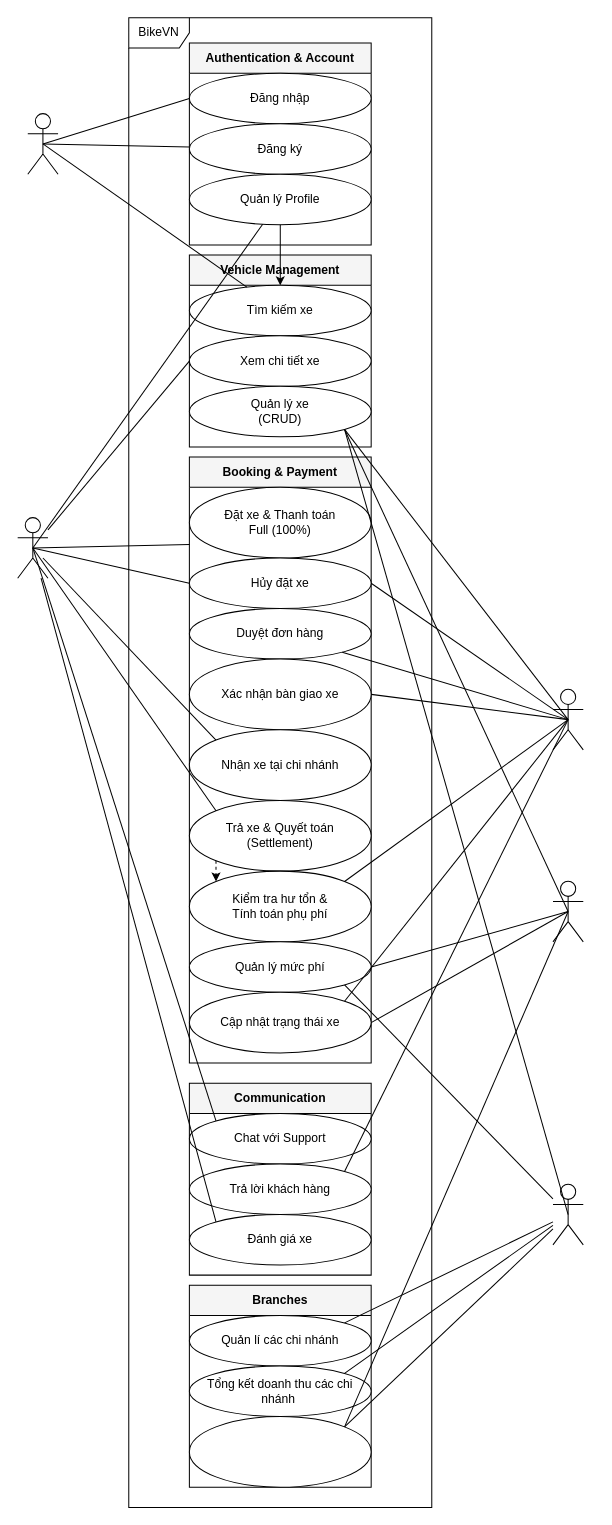
The diagram is 612 pixels wide and 1525 high, and some of its shapes have lost their labels. Here are the shapes that lost their labels. From the top down, the centre of each, then its label:
At (42,143): "Guest".
At (32,547): "User".
At (567,719): "employee".
At (567,911): "Manager".
At (567,1214): "Admin".
At (279,1451): "Xem báo cáo doanh thu (Rental vs Extra)".
